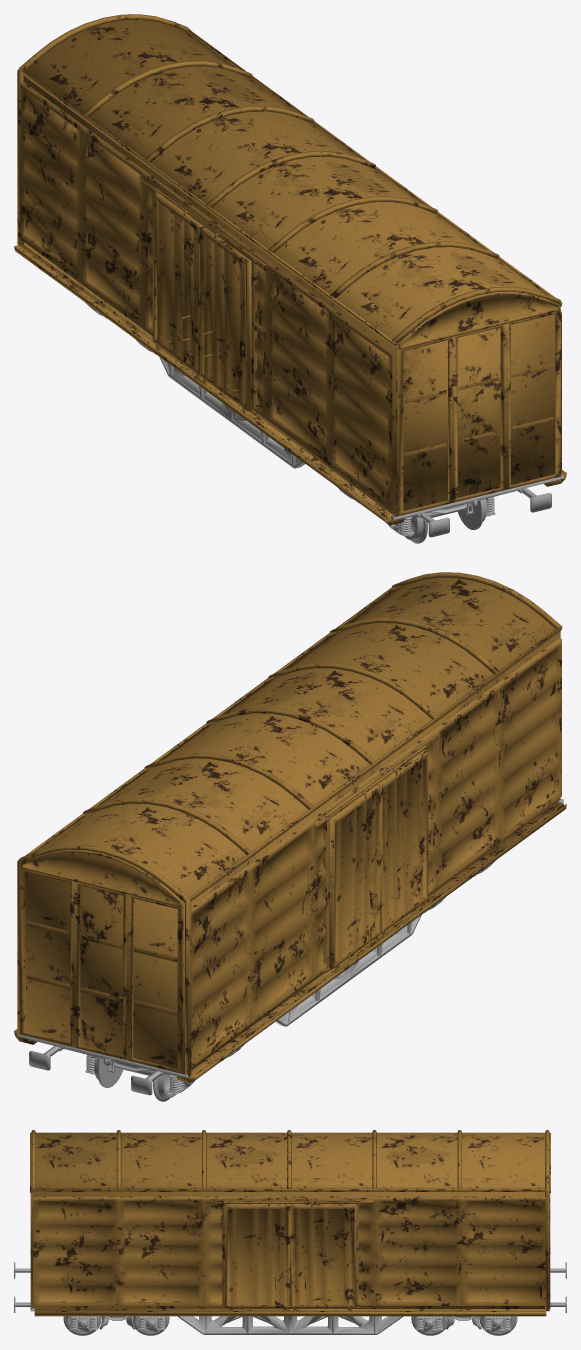
File: Train_1_lod(1).fbx
The picture shows the model from 3 angles, top to bottom: view 1: azimuth 30°, elevation 25°; view 2: azimuth 150°, elevation 25°; view 3: azimuth 270°, elevation 25°; orthographic projection. The views are drawn at different scales.
Parts seen in each view (by area): view 1: Train_1:group1polySurface1; view 2: Train_1:group1polySurface1; view 3: Train_1:group1polySurface1.
Part boxes in pixels (<box>): Train_1:group1polySurface1: <box>14,14,566,543</box>; Train_1:group1polySurface1: <box>14,572,566,1101</box>; Train_1:group1polySurface1: <box>14,1130,566,1335</box>.
Size of the model in its own units: 36.5 by 47.84 by 129.
